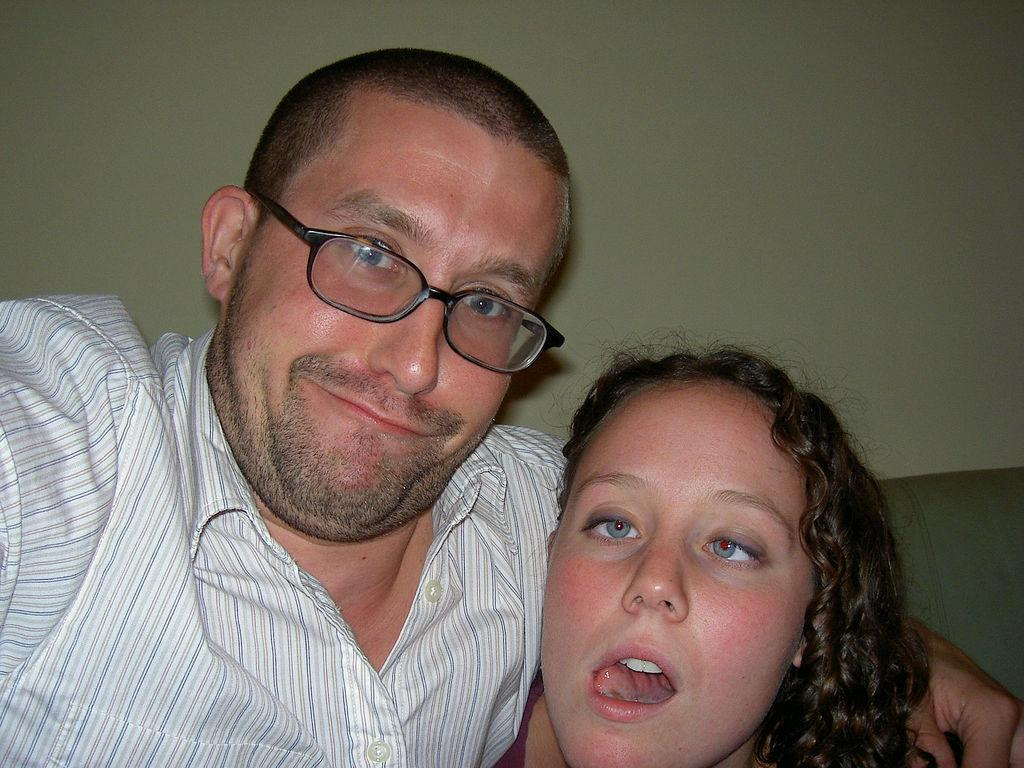Drunk: (269, 109, 507, 488), (569, 410, 784, 752)
